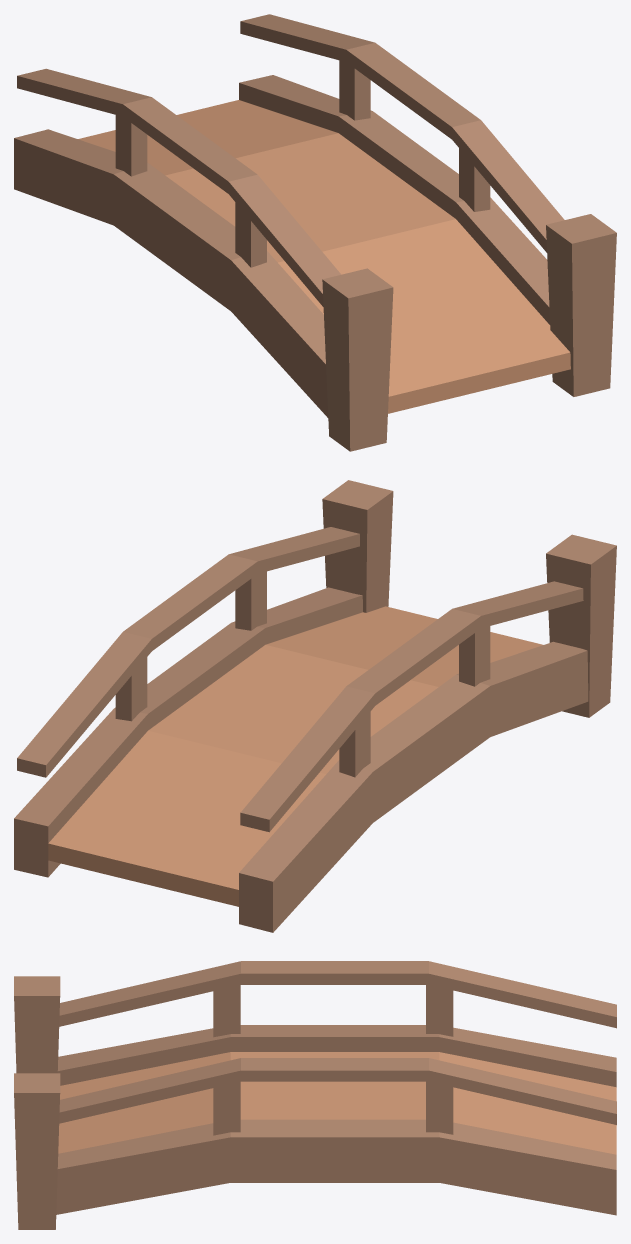
Rendered from bridge_3b_2.fbx.
The picture shows the model from 3 angles, top to bottom: view 1: azimuth 30°, elevation 25°; view 2: azimuth 150°, elevation 25°; view 3: azimuth 270°, elevation 25°; orthographic projection. The views are drawn at different scales.
Parts seen in each view (by area): view 1: bridge_3b_2; view 2: bridge_3b_2; view 3: bridge_3b_2.
Boxes of the visible parts, x1,y1,x2,y2 form: bridge_3b_2: (14,14,616,451); bridge_3b_2: (14,480,616,932); bridge_3b_2: (14,961,616,1229).
Size of the model in its own units: 9.02 by 5.69 by 19.74.
